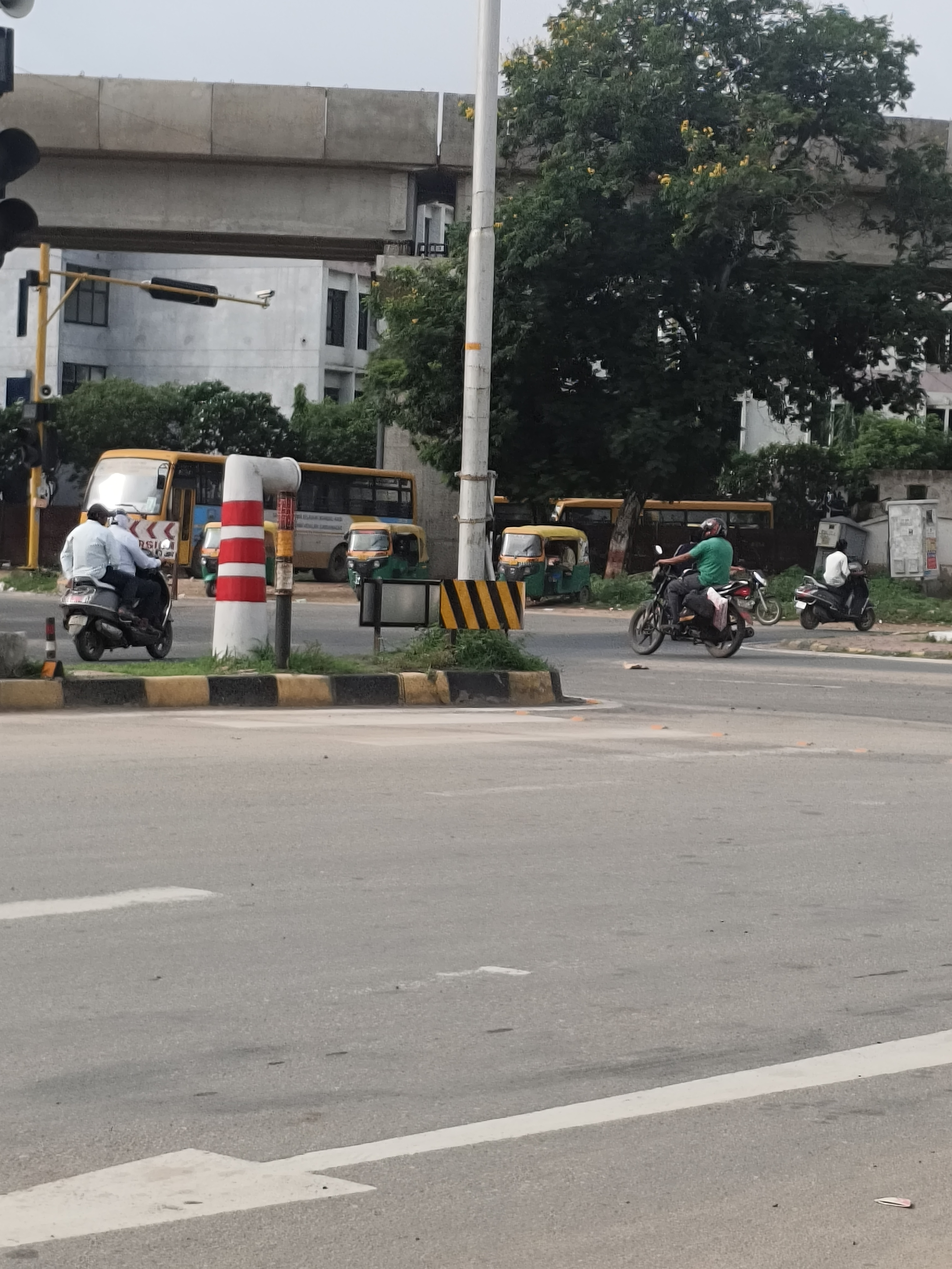BikeWithRider: (52, 495, 183, 669), (622, 512, 765, 662), (788, 533, 882, 635)
Helmet: (691, 514, 728, 545)
NoHelmet: (82, 498, 114, 530), (108, 503, 136, 534), (829, 534, 855, 554)
